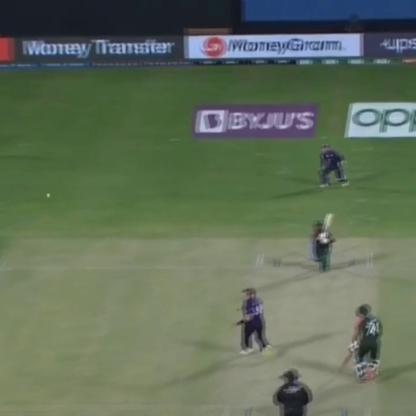ball: (41, 190, 54, 206)
pitch: (232, 233, 395, 415)
